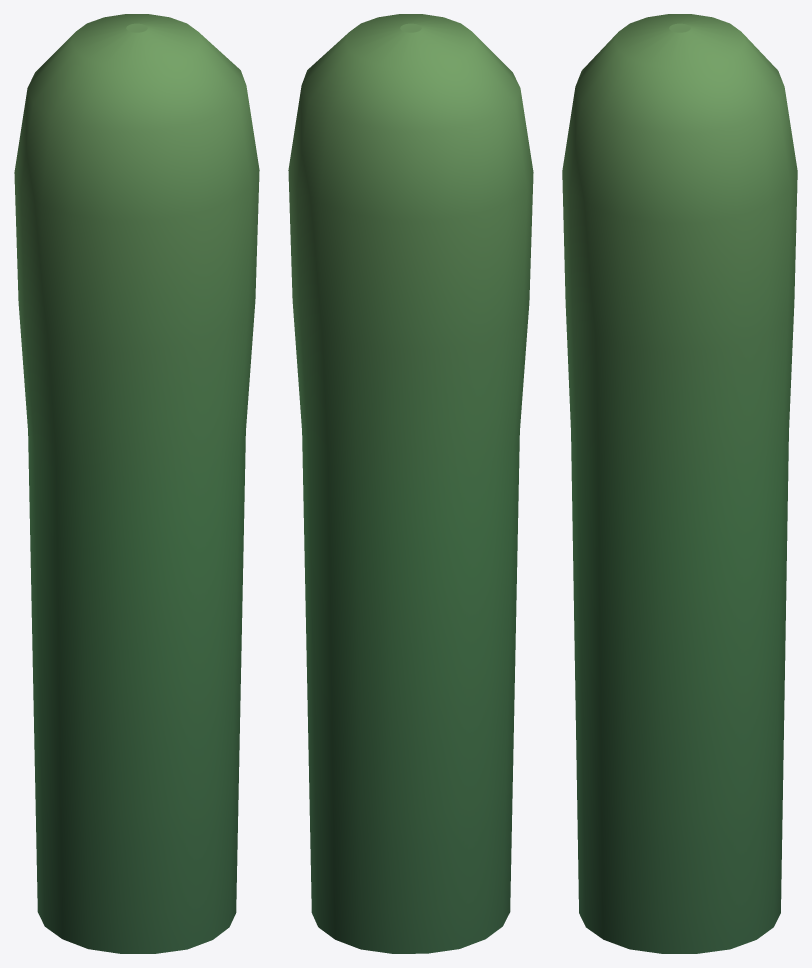
Rendered from merchant_selma_upper_r.glb.
The picture shows the model from 3 angles, left to right: view 1: azimuth 30°, elevation 25°; view 2: azimuth 150°, elevation 25°; view 3: azimuth 270°, elevation 25°; orthographic projection.
Visible parts, largest first — view 1: merchant_selma_upper_r; view 2: merchant_selma_upper_r; view 3: merchant_selma_upper_r.
Boxes of the visible parts, x1,y1,x2,y2 form: merchant_selma_upper_r: (14, 14, 259, 953); merchant_selma_upper_r: (288, 14, 533, 953); merchant_selma_upper_r: (562, 14, 797, 953).
Bounding box in the file's own units: 0.3272 × 1.31 × 0.3148.
Materials: 1 (1 with a texture image).
